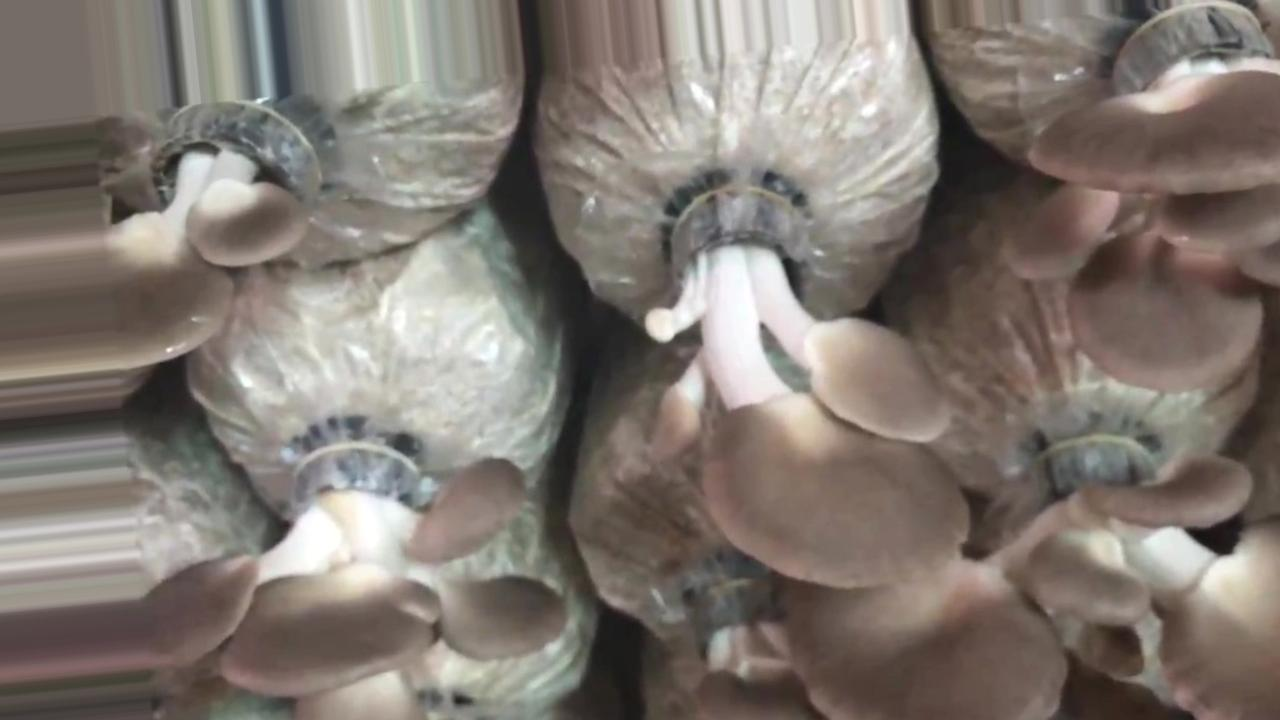nam: (1, 416, 570, 697), (788, 420, 1280, 719), (638, 178, 971, 589), (1003, 3, 1280, 392), (1, 100, 342, 375), (677, 564, 831, 720)
